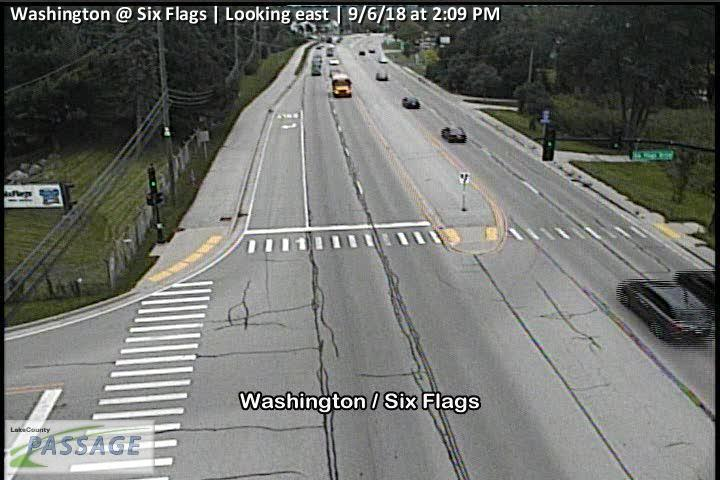Bus: (331, 72, 354, 99), (359, 49, 366, 55), (368, 47, 374, 53)
SUV: (616, 278, 711, 345), (375, 70, 389, 82)
Sedan: (440, 124, 467, 144), (402, 96, 421, 110), (329, 67, 343, 77), (376, 56, 389, 63), (312, 65, 320, 76), (328, 56, 339, 64)
